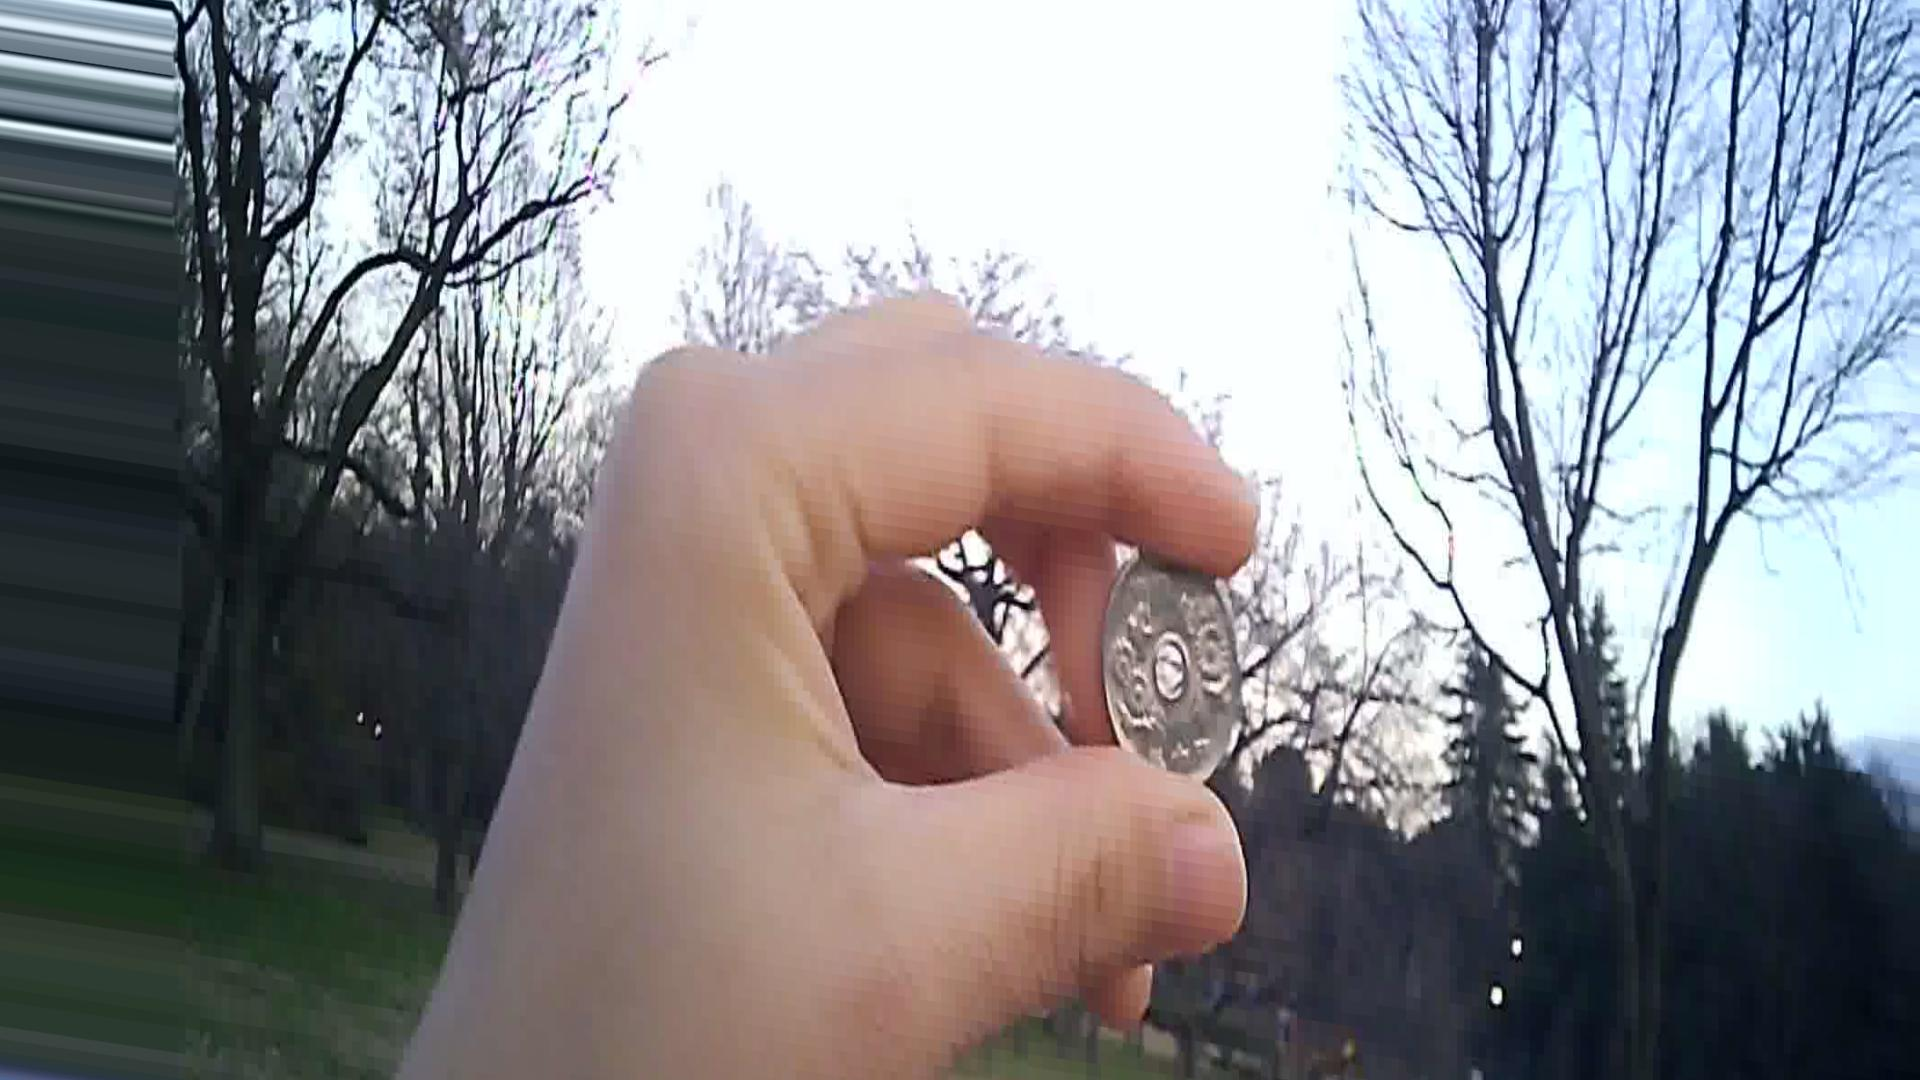50 Yen: (1083, 541, 1254, 807)
